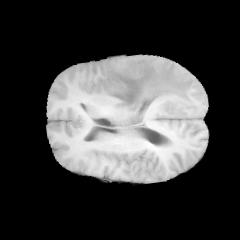glioma: (109, 62, 197, 111)
